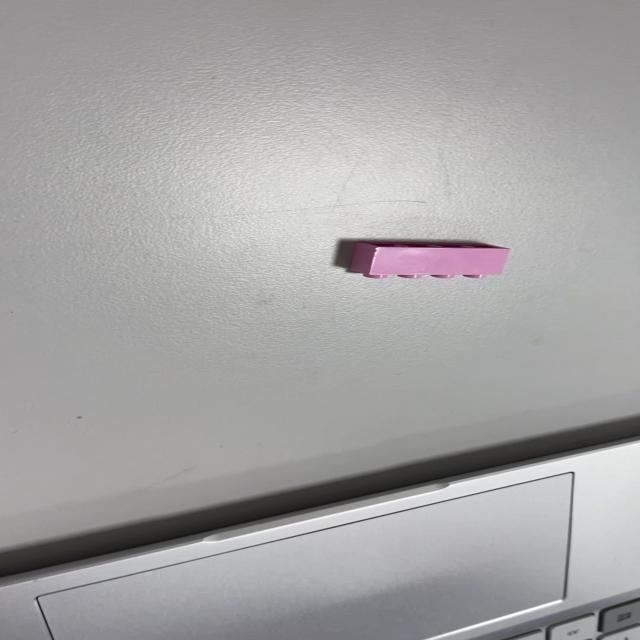C4x1x1: (347, 240, 511, 280)
